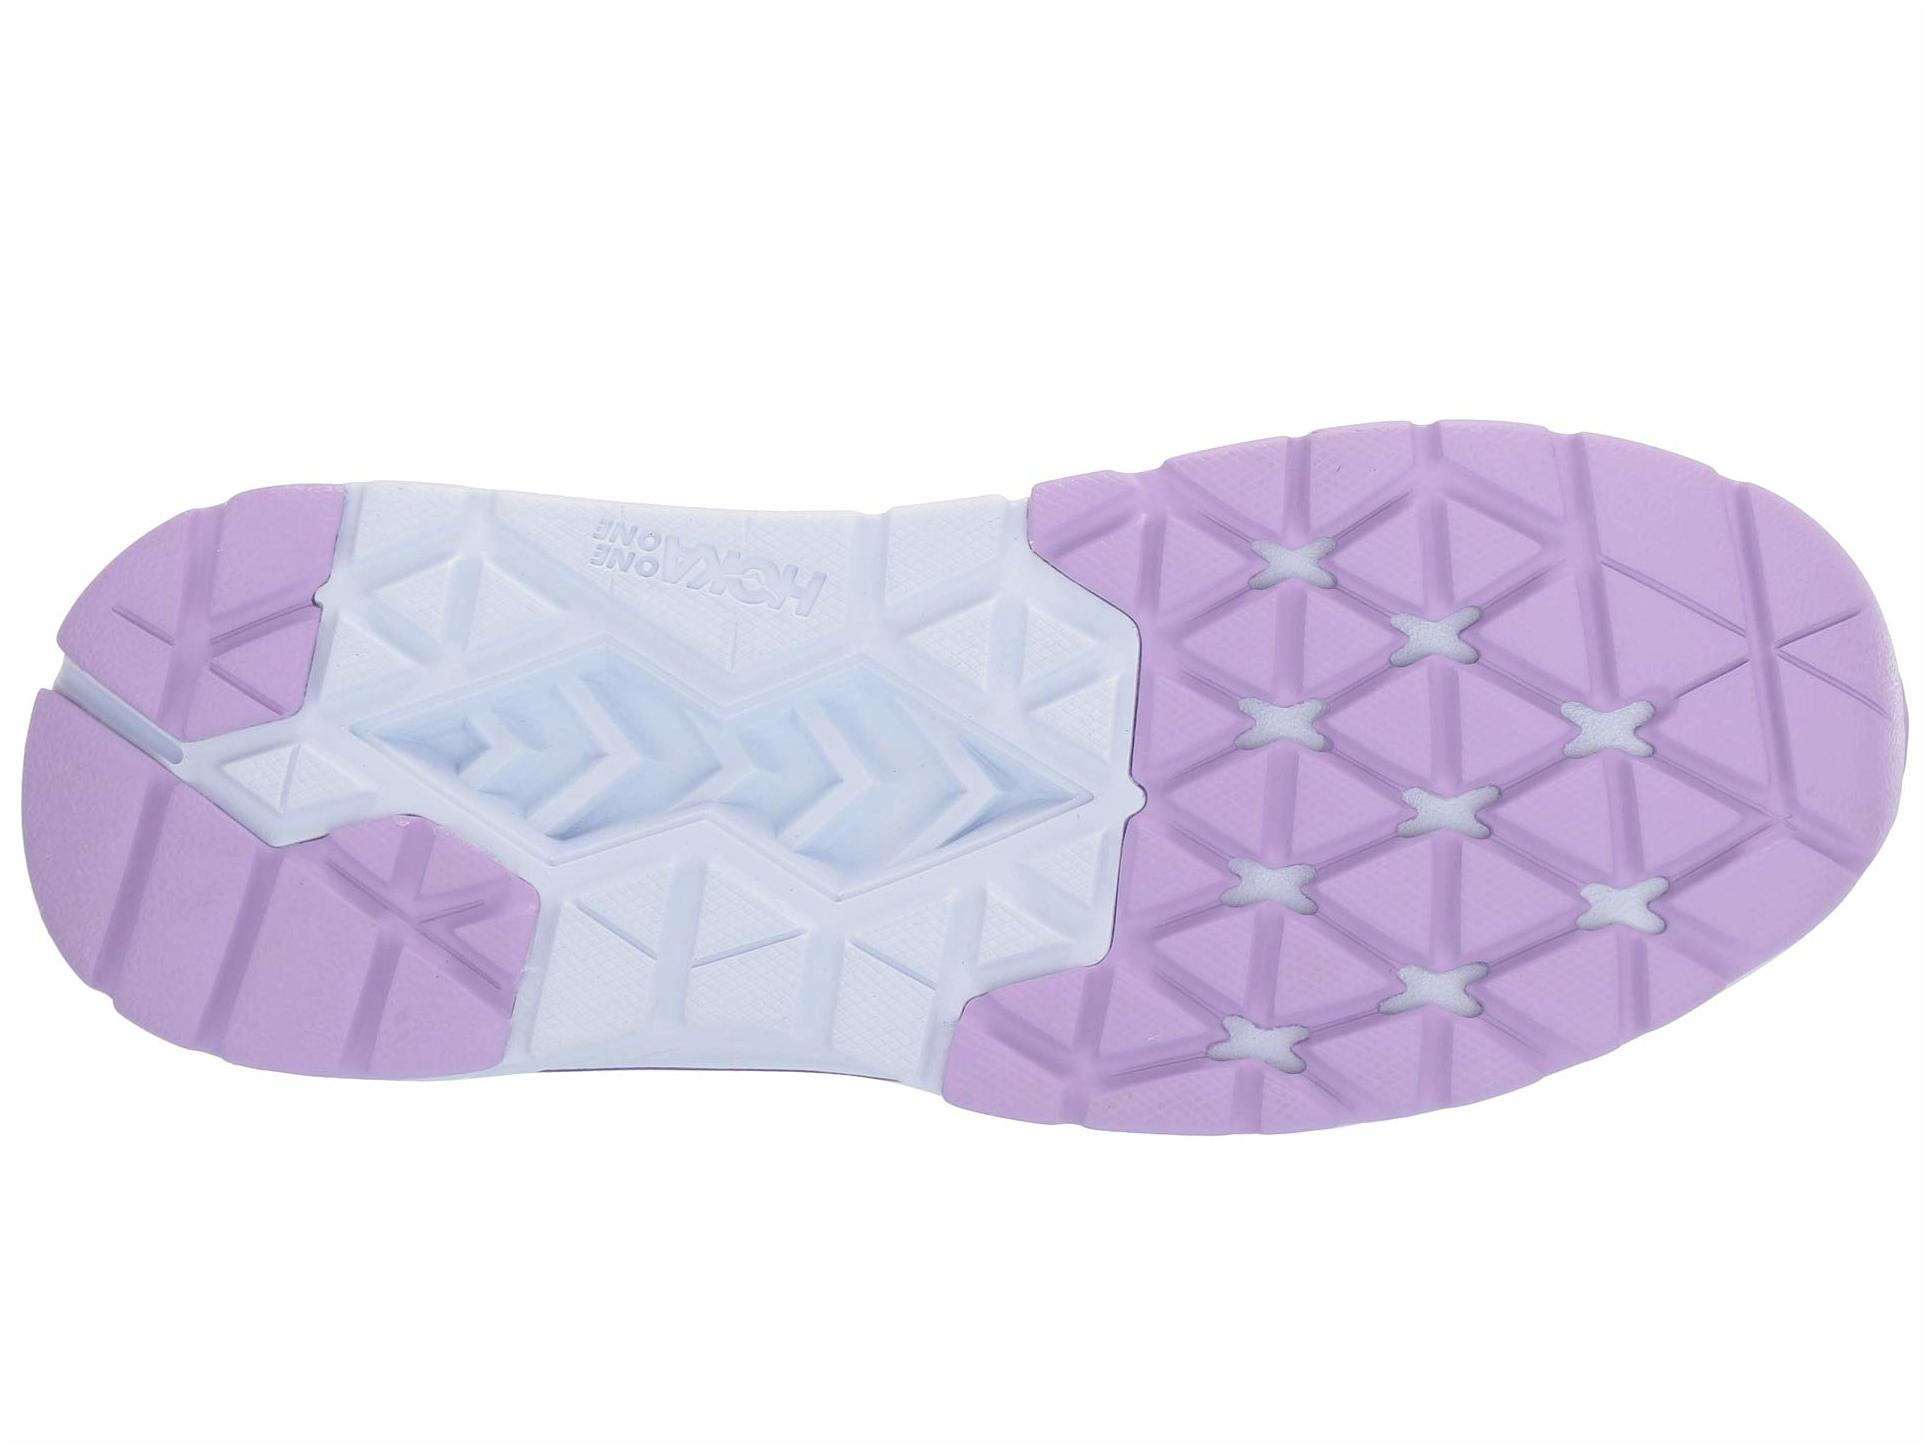chevron: (398, 634, 823, 1007)
quad: (149, 452, 363, 757)
star: (1142, 551, 1574, 1081), (1500, 629, 1750, 819)
triangle: (1142, 551, 1574, 1081), (398, 634, 823, 1007), (149, 452, 363, 757)
